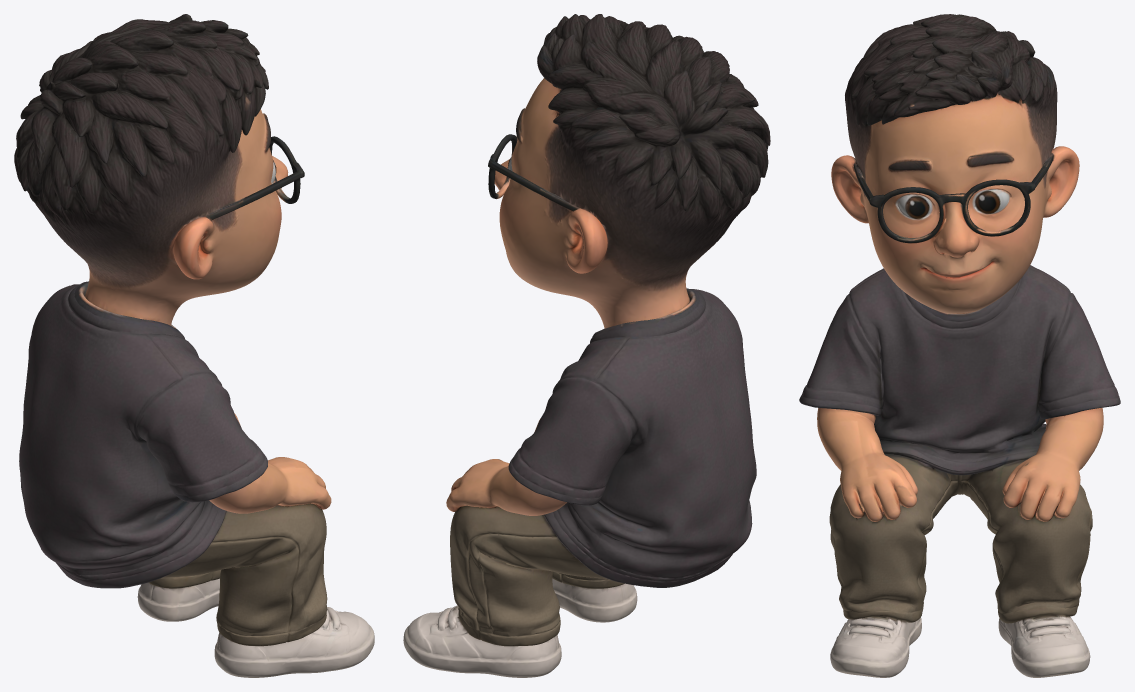
Rendered from 秦铭煊.glb.
3 renders of one model, left to right at view 1: azimuth 30°, elevation 25°; view 2: azimuth 150°, elevation 25°; view 3: azimuth 270°, elevation 25°, orthographic. The views are drawn at different scales.
Visible parts, largest first — view 1: tripo_node_adbc7ad0-cfdd-4638-a1c3-7c17b06af19b; view 2: tripo_node_adbc7ad0-cfdd-4638-a1c3-7c17b06af19b; view 3: tripo_node_adbc7ad0-cfdd-4638-a1c3-7c17b06af19b.
Part boxes in pixels (box(x1,y1,x2,y2)): tripo_node_adbc7ad0-cfdd-4638-a1c3-7c17b06af19b: box(14, 14, 374, 677); tripo_node_adbc7ad0-cfdd-4638-a1c3-7c17b06af19b: box(403, 14, 770, 677); tripo_node_adbc7ad0-cfdd-4638-a1c3-7c17b06af19b: box(799, 14, 1120, 677).
Bounding box in the file's own units: 0.4814 × 0.9814 × 0.4864.
1 material, 1 textured.
